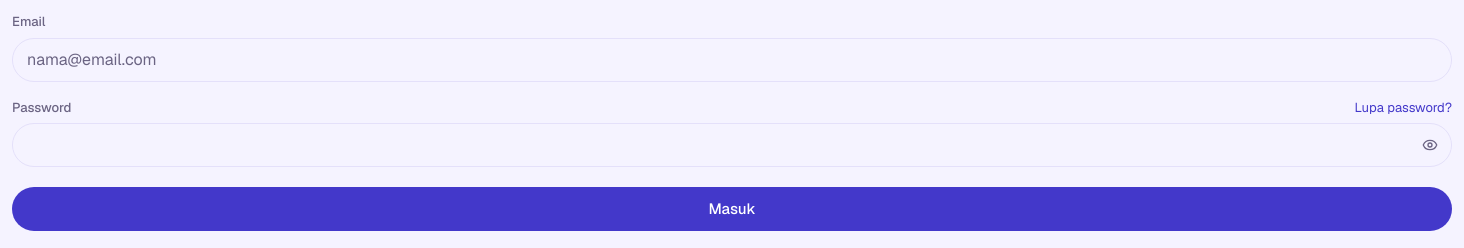
Test: LoginForm - langkah kedua 2FA › mempertahankan email & password saat pindah ke langkah kedua
Type "admin@dannshop.id" into the field labelled "Email".
click(732, 60); type("admin@dannshop.id")  # box [12,38,1452,82]
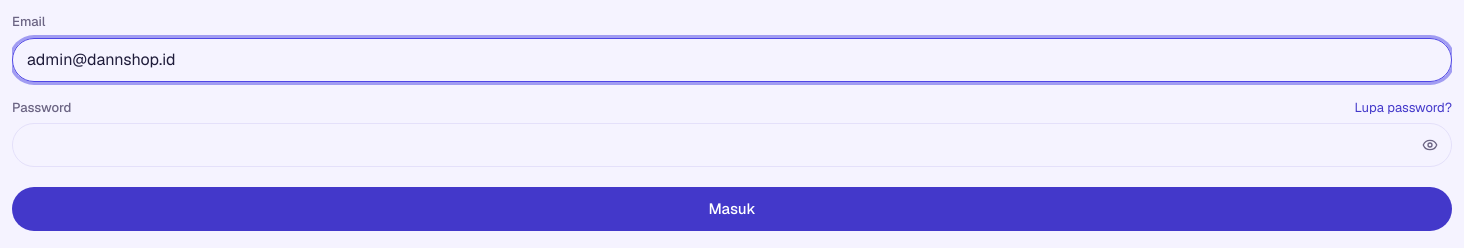
Type "rahasia123" into the password field labelled "Password".
click(732, 145); type("rahasia123")  # box [12,123,1452,167]
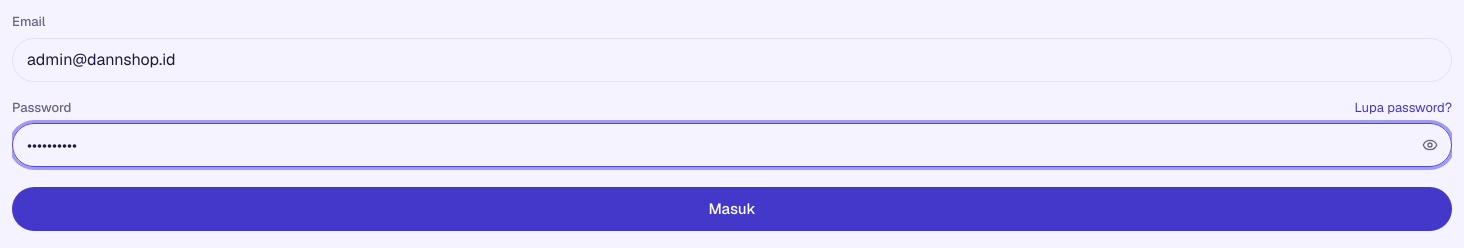
Click the button "Masuk".
click(732, 209)  # box [12,187,1452,231]
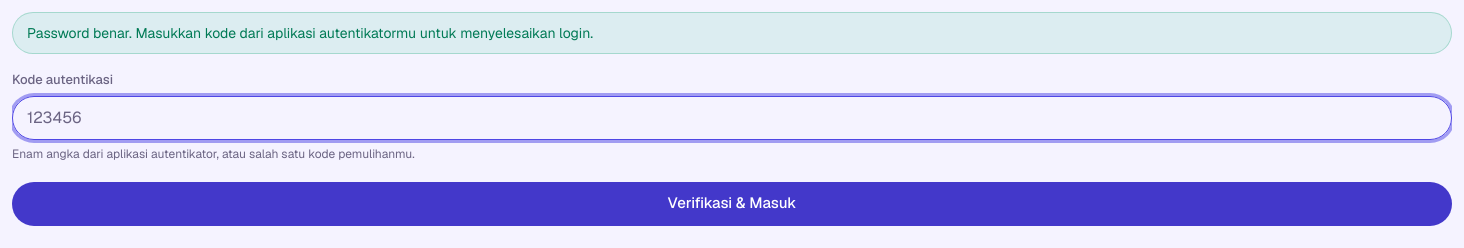
expect the field labelled "Kode autentikasi" is shown: met, box [12,96,1452,140]
